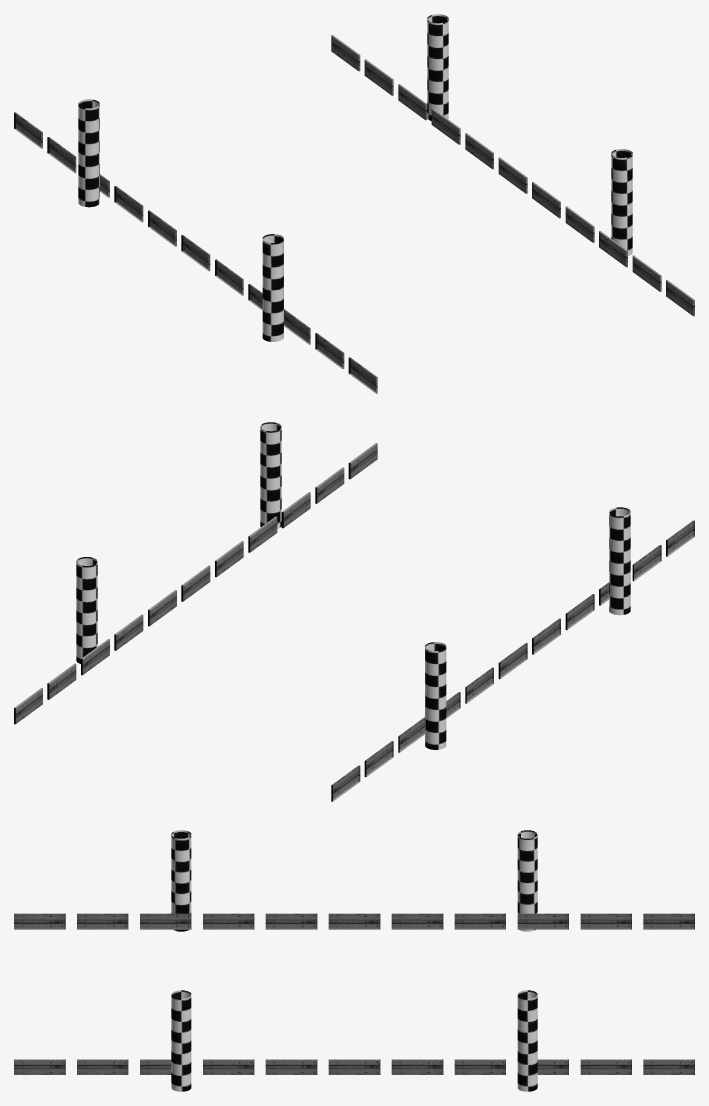
File: guardrail_pole.FBX
3 views of the same model, one above another, from view 1: azimuth 30°, elevation 25°; view 2: azimuth 150°, elevation 25°; view 3: azimuth 270°, elevation 25° (orthographic). The views are drawn at different scales.
Parts seen in each view (by area): view 1: pole; view 2: pole; view 3: pole.
Part boxes in pixels (x1=…): pole: x1=14, y1=14, x2=694, y2=393; pole: x1=14, y1=422, x2=694, y2=801; pole: x1=14, y1=830, x2=694, y2=1091.
Size of the model in its own units: 2306 by 592 by 3934.
